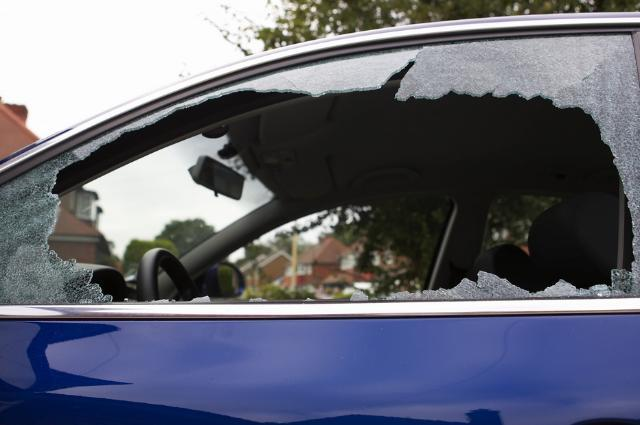Door: (22, 72, 640, 324)
